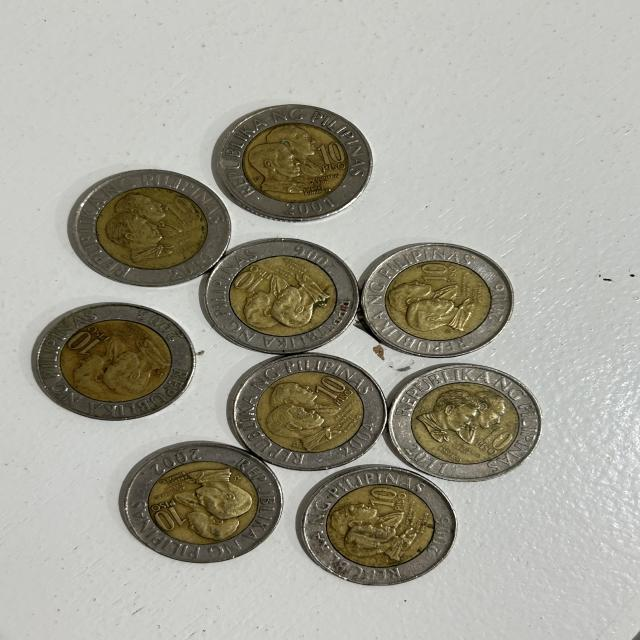10_Old_Front: (417, 260, 457, 292)
